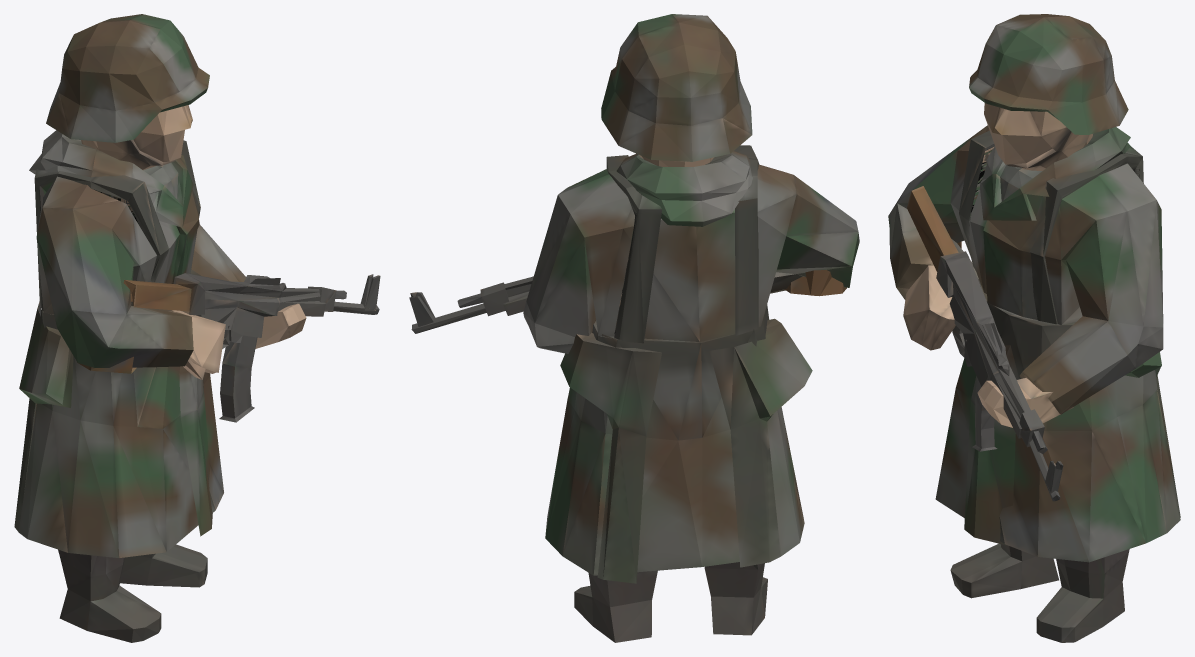
Rendered from bulge_german_airborne_2.glb.
3 views of the same model, side by side, from view 1: azimuth 30°, elevation 25°; view 2: azimuth 150°, elevation 25°; view 3: azimuth 270°, elevation 25° (orthographic). The views are drawn at different scales.
Visible parts, largest first — view 1: geometry_0; view 2: geometry_0; view 3: geometry_0.
Part boxes in pixels (x1=…): geometry_0: x1=14, y1=14, x2=380, y2=642; geometry_0: x1=409, y1=14, x2=859, y2=642; geometry_0: x1=888, y1=14, x2=1180, y2=642.
Bounding box in the file's own units: 0.2201 × 0.324 × 0.1472.
1 material, 1 textured.
